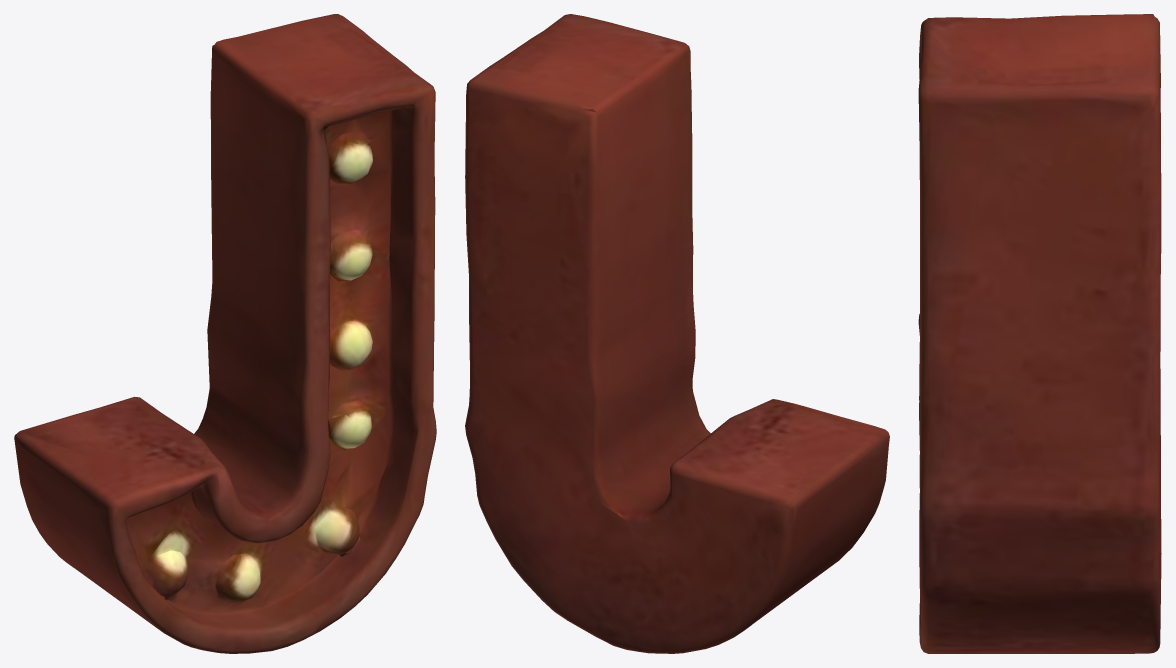
The model's file is letter_j_idle.glb.
3 renders of one model, left to right at view 1: azimuth 30°, elevation 25°; view 2: azimuth 150°, elevation 25°; view 3: azimuth 270°, elevation 25°, orthographic. The views are drawn at different scales.
Parts seen in each view (by area): view 1: letter_i; view 2: letter_i; view 3: letter_i.
Boxes of the visible parts, <box> form: letter_i: <box>14,14,436,653</box>; letter_i: <box>465,14,889,653</box>; letter_i: <box>918,14,1161,653</box>.
Size of the model in its own units: 0.6415 by 0.9854 by 0.3379.
Materials: 1 (1 with a texture image).
